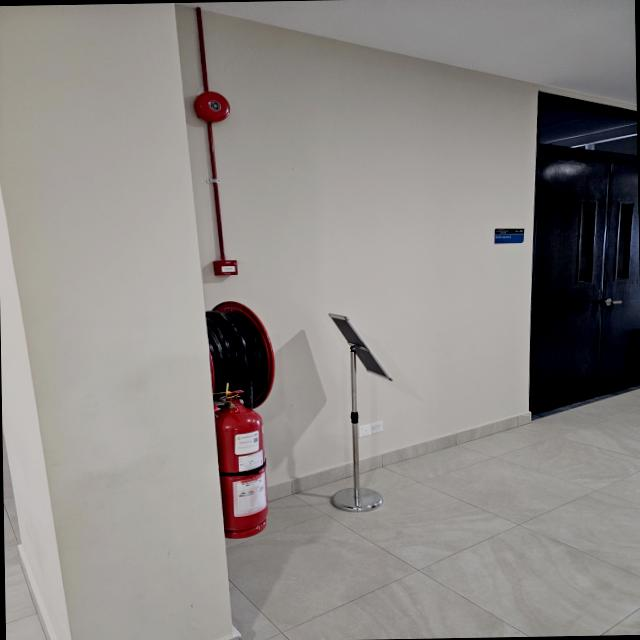door: (523, 134, 640, 419)
obstacle: (202, 296, 284, 536), (314, 308, 395, 518)
wall: (0, 1, 237, 640)
